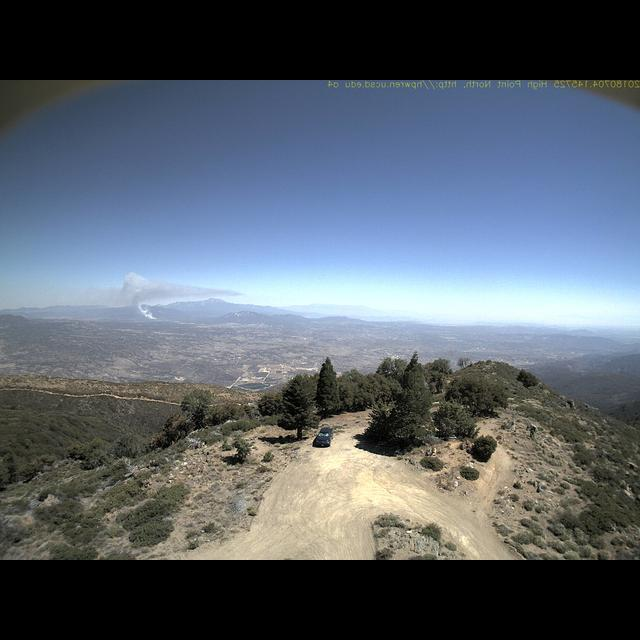Smoke: (103, 271, 247, 321)
